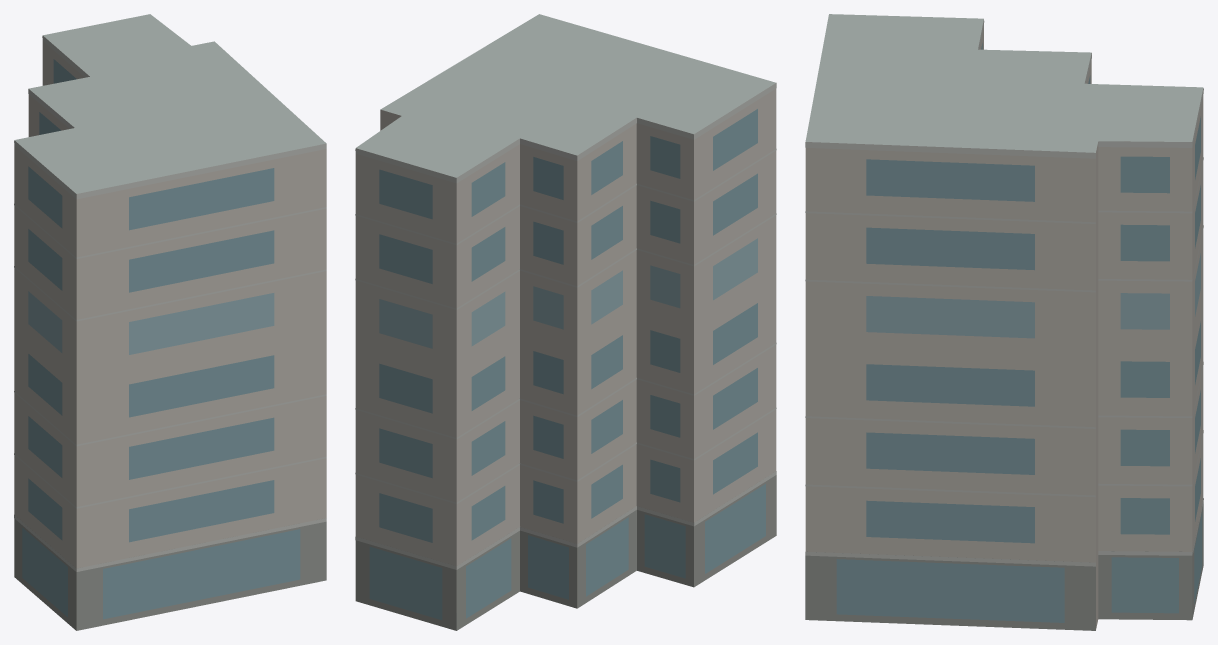
The model's file is survey-upis-32489170.glb.
3 renders of one model, left to right at view 1: azimuth 30°, elevation 25°; view 2: azimuth 150°, elevation 25°; view 3: azimuth 270°, elevation 25°, orthographic. The views are drawn at different scales.
Parts seen in each view (by area): view 1: survey-upis-32489170.tmp; view 2: survey-upis-32489170.tmp; view 3: survey-upis-32489170.tmp.
Part boxes in pixels (x1,y1,x2,y2): survey-upis-32489170.tmp: (14, 14, 326, 630); survey-upis-32489170.tmp: (355, 14, 776, 630); survey-upis-32489170.tmp: (805, 14, 1203, 630).
Bounding box in the file's own units: 12.36 × 19.8 × 14.97.
